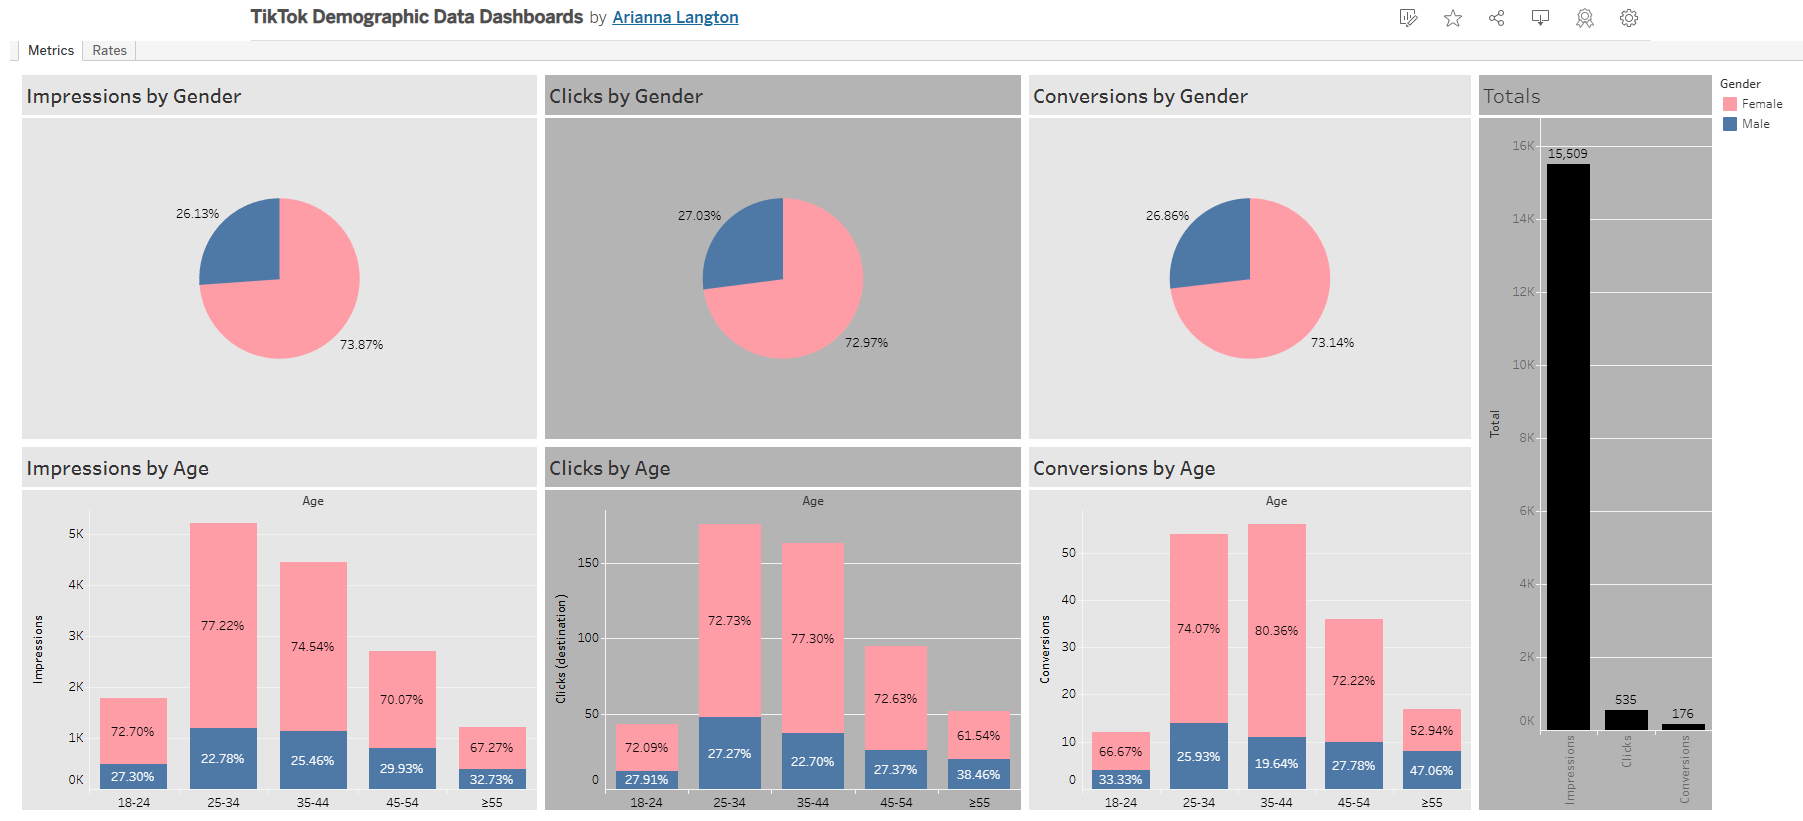

The dashboard page shown, as its layout file describes it:
{"tool":"tableau","page":{"name":"Dashboard 2","canvas":[1000,1000],"units":"permille","ordinal":0},"visuals":[{"type":"image","param":"Image/league_logo3.jpg","box":[5.2,8.3,230.2,219.8]},{"type":"text","box":[235.4,8.3,758.2,100]},{"type":"text","box":[235.4,108.4,758.2,42.1]},{"type":"image","param":"Image/top.png","box":[236,151.5,71,75.6]},{"type":"text","box":[307,151.5,80.5,75.6]},{"type":"image","param":"Image/jungle.png","box":[388.8,151.5,69.7,75.6]},{"type":"text","box":[458.5,151.5,61.3,75.6]},{"type":"image","param":"Image/mid.png","box":[531.9,151.5,78.1,75.6]},{"type":"text","box":[609.9,151.5,76.6,75.6]},{"type":"image","param":"Image/supp.png","box":[687.9,151.5,81.9,75.6]},{"type":"text","box":[769.8,151.5,69,75.6]},{"type":"image","param":"Image/bottom.png","box":[840.1,151.5,43.8,75.6]},{"type":"text","box":[883.9,151.5,109,75.6]},{"type":"worksheet","title":"Sheet 1","mark":"Automatic","rows":["Name"],"cols":["Pick %","Pick %"],"box":[5.2,228.2,352.6,381.8]},{"type":"worksheet","title":"Sheet 2","mark":"Automatic","rows":["Name","Role"],"cols":["Win %","Win %"],"box":[357.8,228.2,419,381.8]},{"type":"worksheet","title":"Sheet 4","mark":"Shape","rows":["Name"],"cols":["Role"],"box":[776.8,228.2,218.1,763.5]},{"type":"worksheet","title":"Sheet 3","mark":"Automatic","rows":["Name"],"cols":["Ban %","Ban %"],"box":[5.2,609.9,352.6,381.8]},{"type":"worksheet","title":"Sheet 5","mark":"Automatic","rows":["Role"],"cols":["Win %","Win %"],"box":[357.8,609.9,419,381.8]}]}

Visuals, with their boxes on the dashboard's canvas, which has no fixed pixel size, in thousandths of its width and height (x1, y1, x2, y2). These are canvas units, not pixel positions in the 1803x821 screenshot, which may show the page scaled, cropped or inside an application window:
image: locate(5, 8, 235, 228)
text: locate(235, 8, 994, 108)
text: locate(235, 108, 994, 150)
image: locate(236, 152, 307, 227)
text: locate(307, 152, 388, 227)
image: locate(389, 152, 458, 227)
text: locate(458, 152, 520, 227)
image: locate(532, 152, 610, 227)
text: locate(610, 152, 686, 227)
image: locate(688, 152, 770, 227)
text: locate(770, 152, 839, 227)
image: locate(840, 152, 884, 227)
text: locate(884, 152, 993, 227)
"Sheet 1" worksheet: locate(5, 228, 358, 610)
"Sheet 2" worksheet: locate(358, 228, 777, 610)
"Sheet 4" worksheet (Shape marks): locate(777, 228, 995, 992)
"Sheet 3" worksheet: locate(5, 610, 358, 992)
"Sheet 5" worksheet: locate(358, 610, 777, 992)
